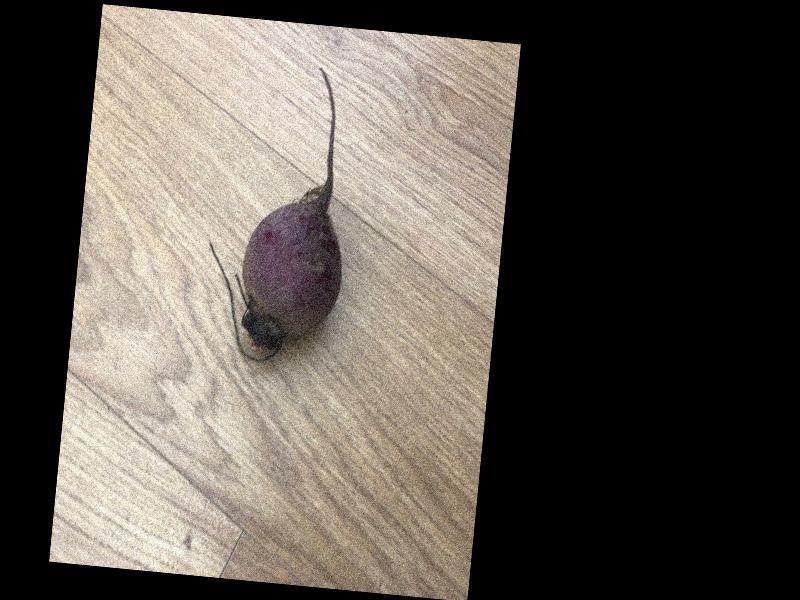Beet: (199, 58, 362, 368)
